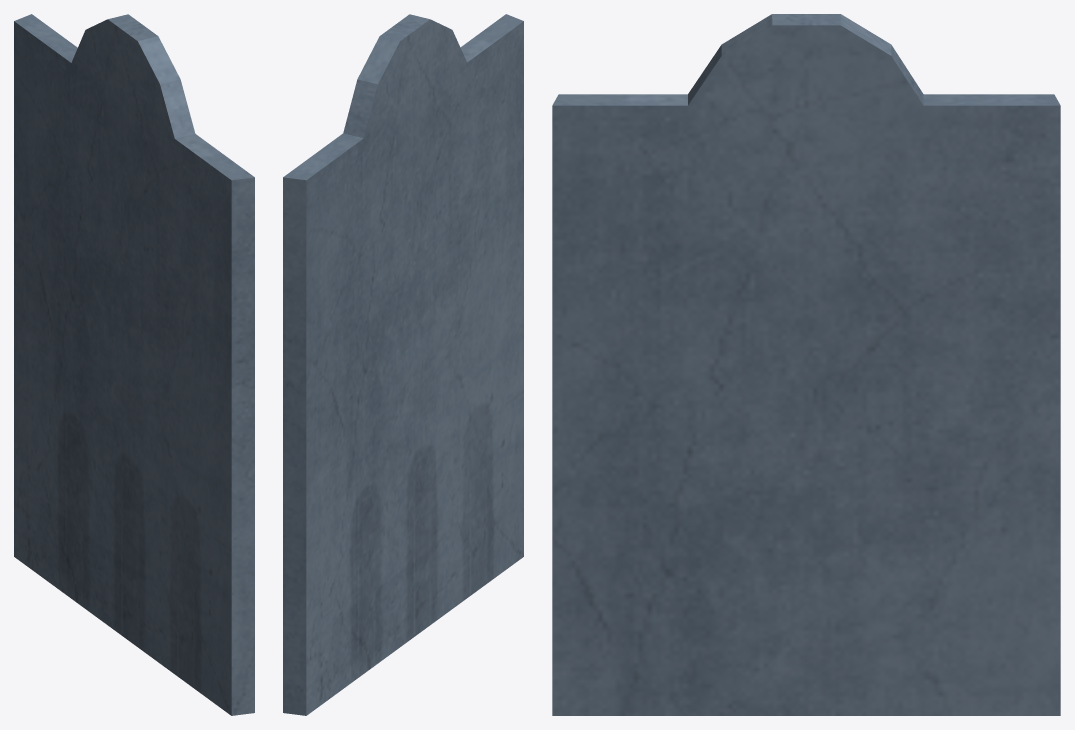
The model's file is MB_Rusticated_Corner_03.fbx.
3 views of the same model, side by side, from view 1: azimuth 30°, elevation 25°; view 2: azimuth 150°, elevation 25°; view 3: azimuth 270°, elevation 25° (orthographic). The views are drawn at different scales.
Visible parts, largest first — view 1: MB_Rusticated_Corner_03; view 2: MB_Rusticated_Corner_03; view 3: MB_Rusticated_Corner_03.
Boxes of the visible parts, x1,y1,x2,y2 form: MB_Rusticated_Corner_03: (14, 14, 254, 715); MB_Rusticated_Corner_03: (283, 14, 523, 715); MB_Rusticated_Corner_03: (552, 14, 1060, 715).
Bounding box in the file's own units: 3.83 × 108 × 71.82.
